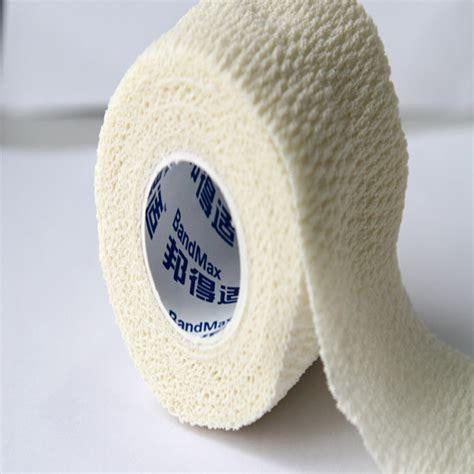gauze: (76, 0, 474, 474)
